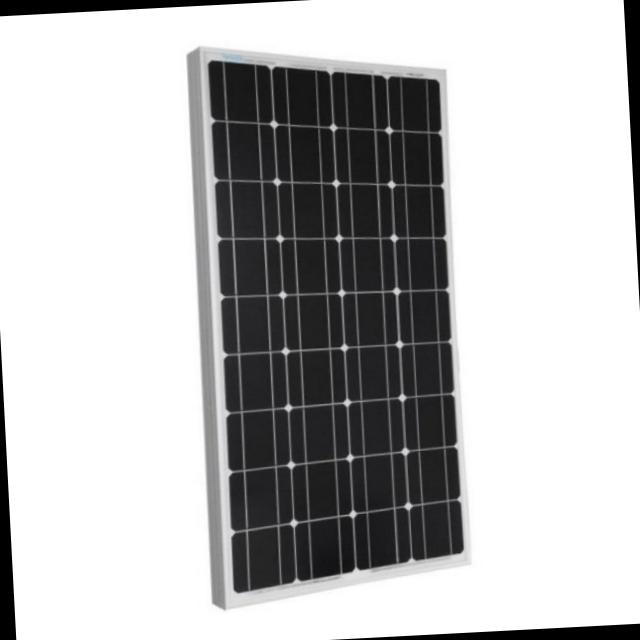no faulty: (215, 56, 461, 587)
